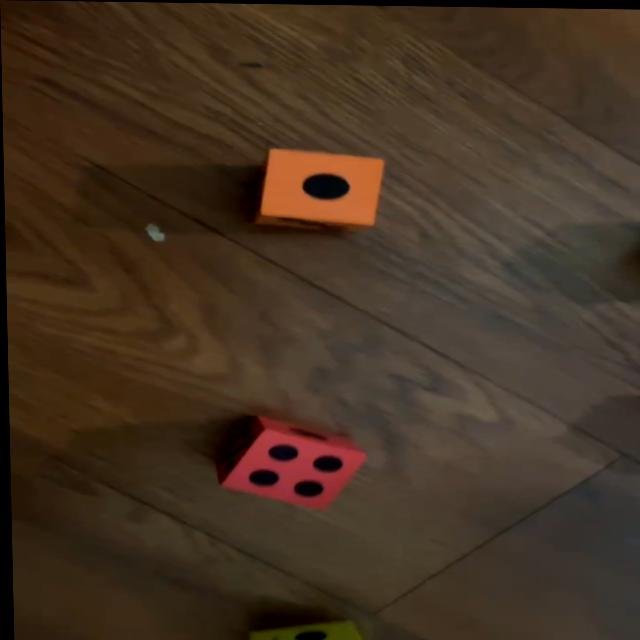red_block: (214, 416, 362, 509)
